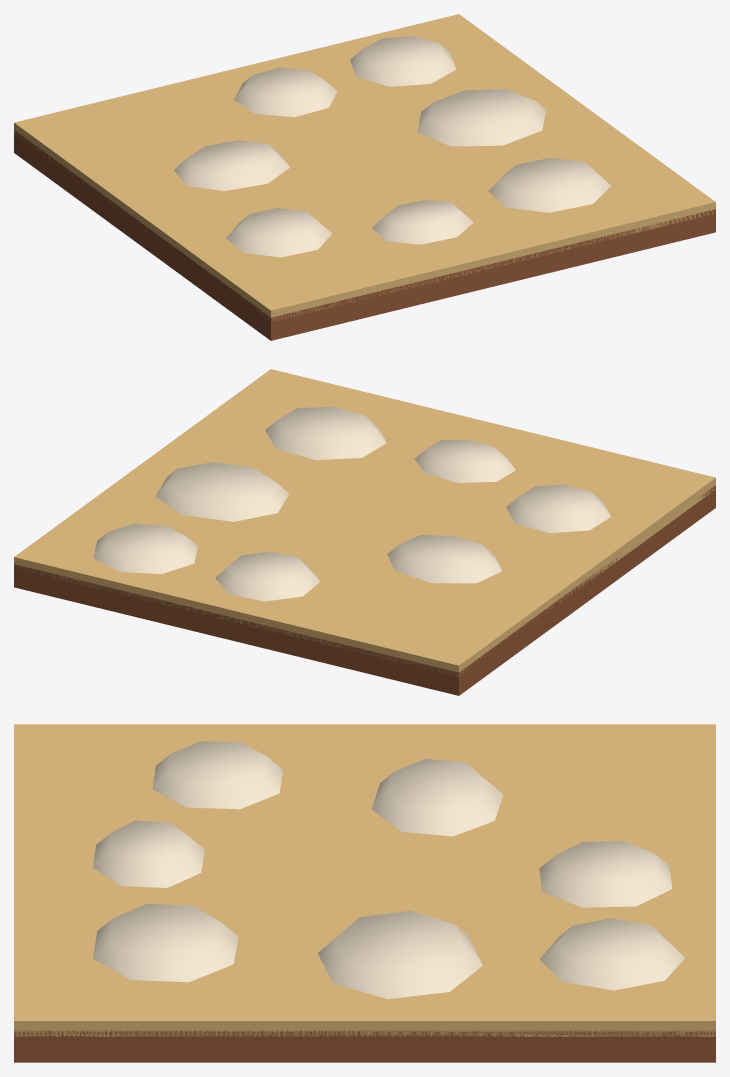
File: path_tile_cross.glb
3 renders of one model, top to bottom at view 1: azimuth 30°, elevation 25°; view 2: azimuth 150°, elevation 25°; view 3: azimuth 270°, elevation 25°, orthographic. The views are drawn at different scales.
Parts seen in each view (by area): view 1: path_tile_cross; view 2: path_tile_cross; view 3: path_tile_cross.
Part boxes in pixels (x1=…): path_tile_cross: x1=14, y1=14, x2=715, y2=340; path_tile_cross: x1=14, y1=369, x2=715, y2=695; path_tile_cross: x1=14, y1=724, x2=715, y2=1062.
Size of the model in its own units: 1 by 0.09 by 1.
Materials: 1 (1 with a texture image).
